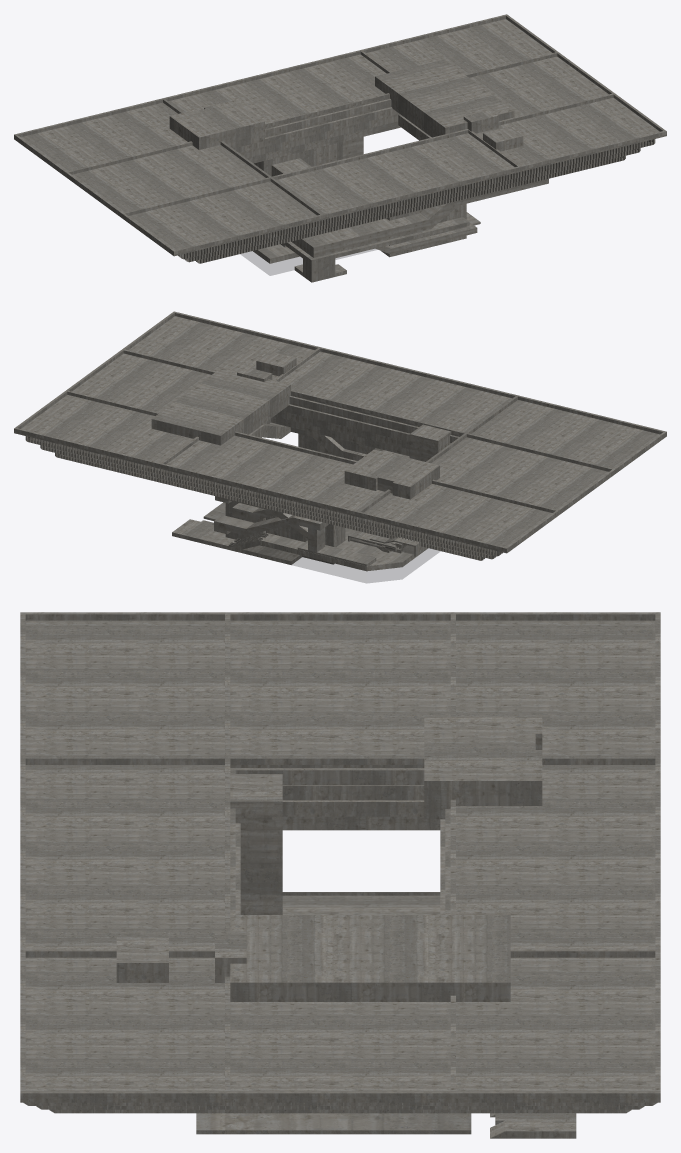
File: kr_pavilion_b.glb
3 renders of one model, top to bottom at view 1: azimuth 30°, elevation 25°; view 2: azimuth 150°, elevation 25°; view 3: azimuth 270°, elevation 25°, orthographic. The views are drawn at different scales.
Parts seen in each view (by area): view 1: Brutalist_Building_0; view 2: Brutalist_Building_0; view 3: Brutalist_Building_0.
Boxes of the visible parts, left/top/right/bottom form: Brutalist_Building_0: left=14, top=14, right=666, bottom=282; Brutalist_Building_0: left=14, top=311, right=666, bottom=582; Brutalist_Building_0: left=20, top=612, right=660, bottom=1138.
Bounding box in the file's own units: 43.4 × 8.36 × 24.4.
Materials: 2 (1 with a texture image).
